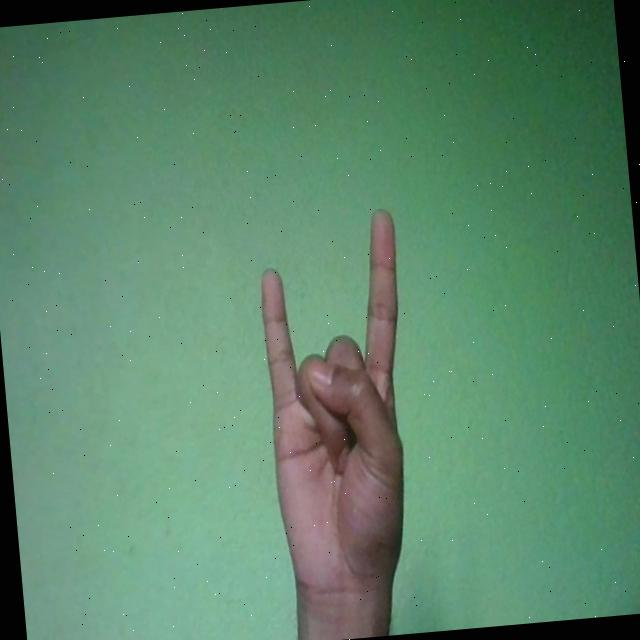open Plam: (252, 207, 428, 613)
